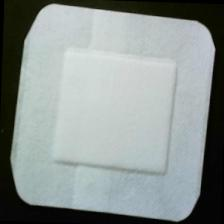Dressing: (9, 2, 219, 224)
